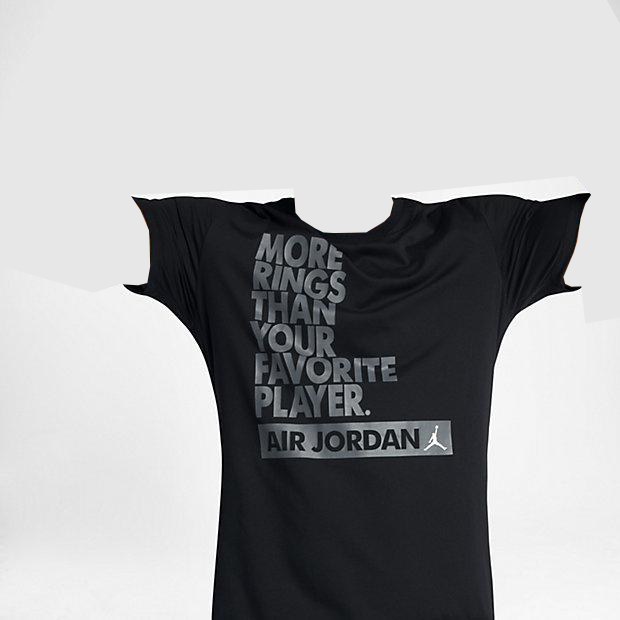teeshirt: (115, 181, 589, 620)
